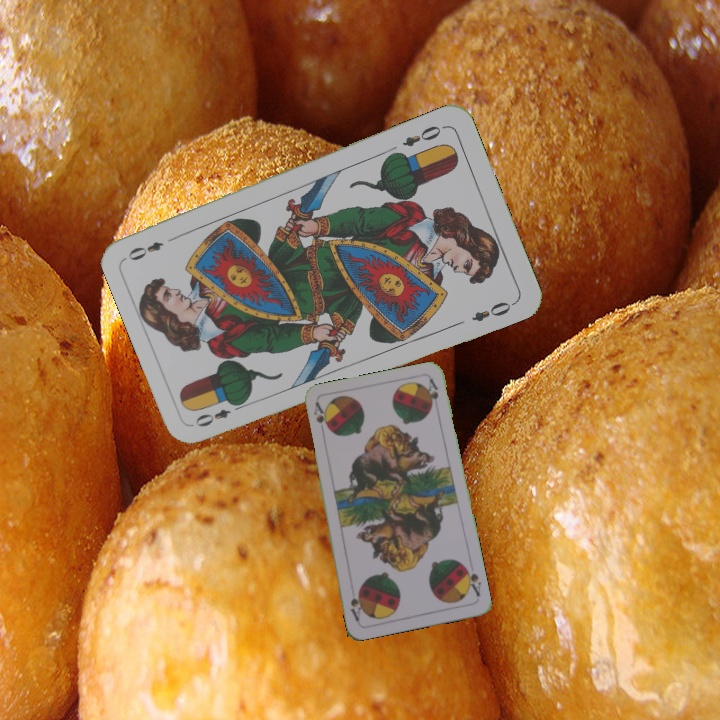EO: (191, 398, 247, 430), (398, 121, 448, 149)
SA: (460, 562, 484, 599), (310, 399, 328, 427)
